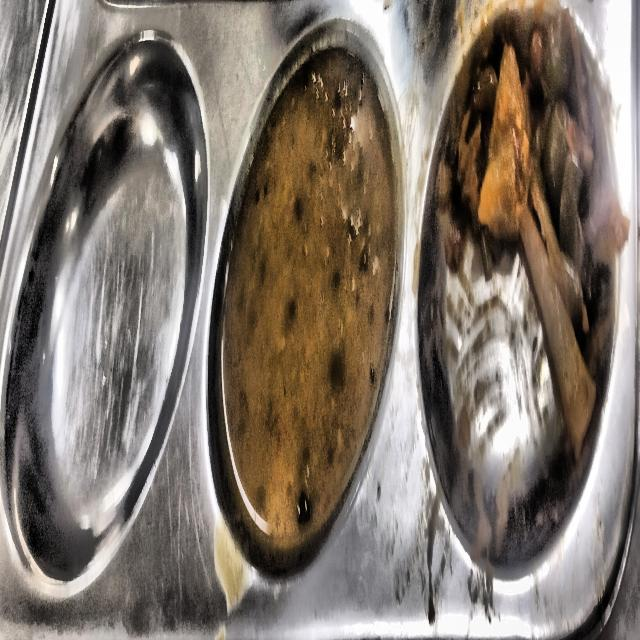Chilli-paneer: (219, 48, 402, 568)
Daal-pulse: (439, 31, 596, 527)
aloo-shimla: (458, 46, 596, 457)
